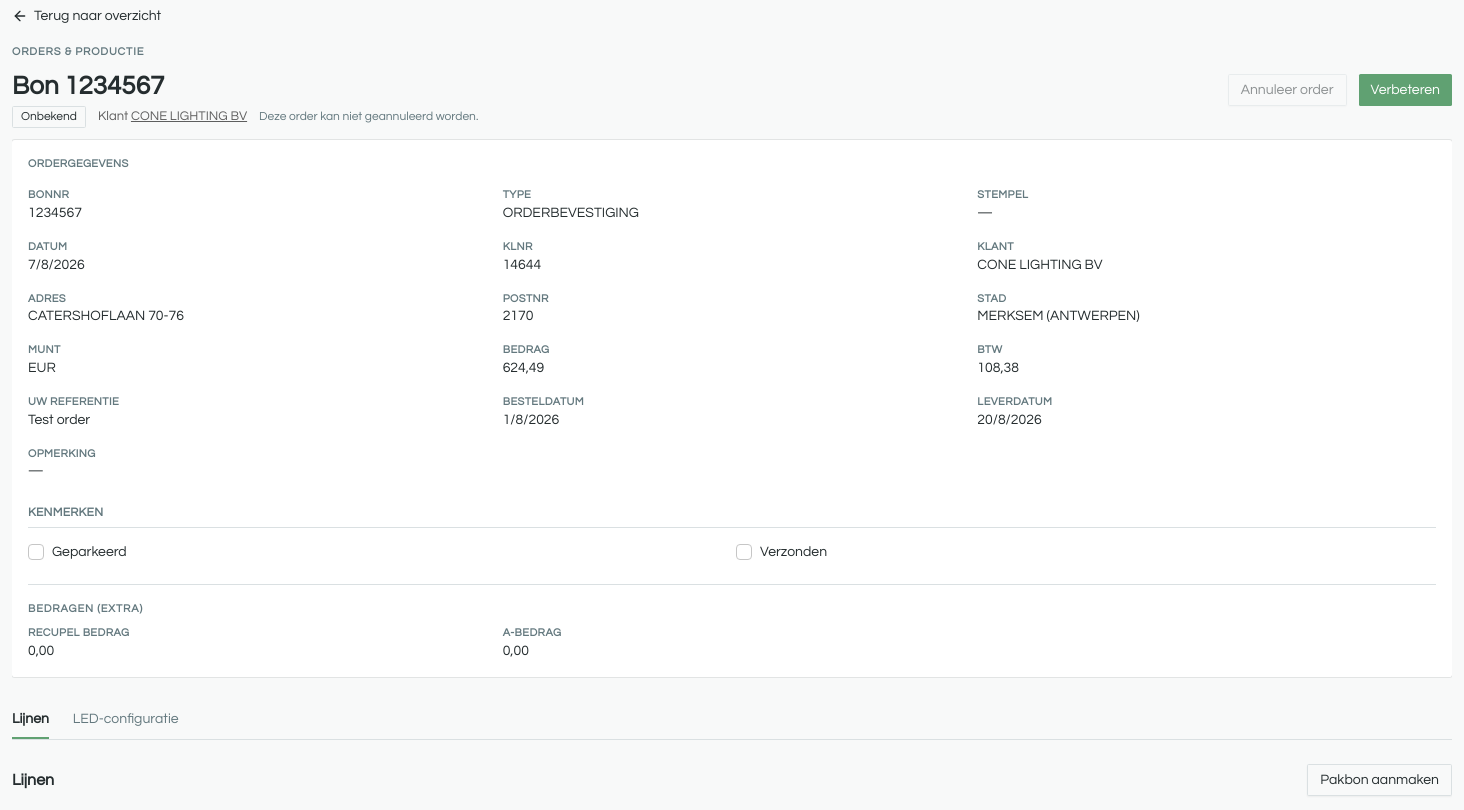
Scenario: BonDetailPage › extra klantnummers / afleveradres / extra bedragen › shows editable fields for extra klantnummers, afleveradres and extra bedragen in edit mode
The width and height of the screenshot is (1464, 810).
Click the button "Verbeteren". click: click(1405, 90)
box: [1358,74,1452,106]
(page scrolled)
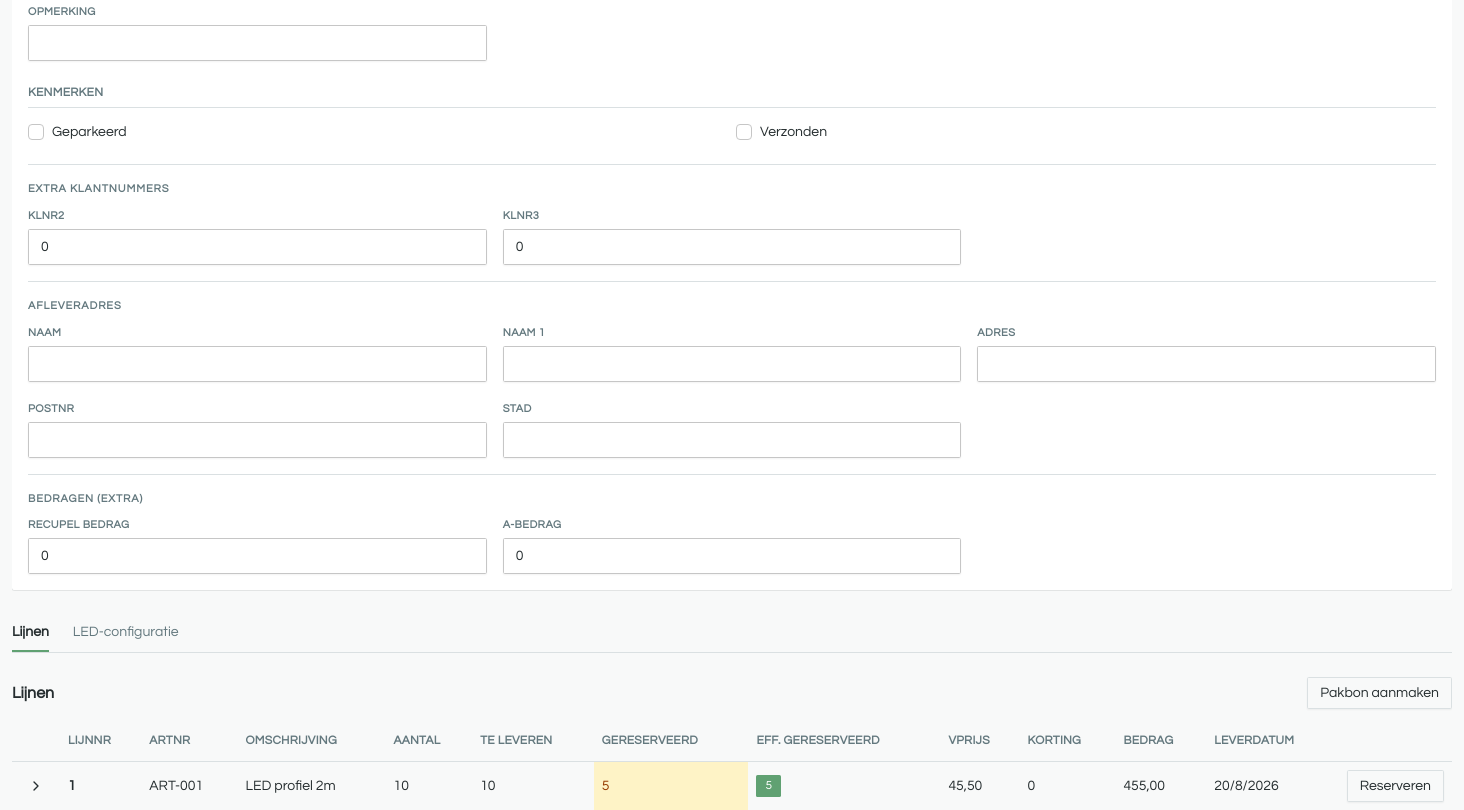
Check: the number field labelled "Klnr2" holds "0", box [28,229,487,265]
Check: the number field labelled "Klnr3" holds "0", box [503,229,961,265]
Check: the field labelled "Naam" is empty, box [28,346,487,382]
